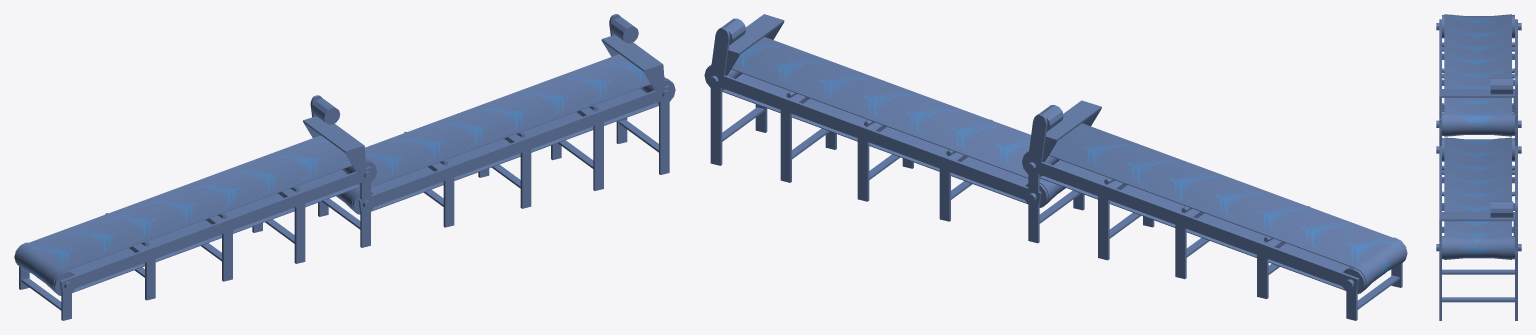
Rendered from PDYSJ.glb.
3 renders of one model, left to right at view 1: azimuth 30°, elevation 25°; view 2: azimuth 150°, elevation 25°; view 3: azimuth 270°, elevation 25°, orthographic. The views are drawn at different scales.
Parts seen in each view (by area): view 1: PDYSJ-2, PDYSJ-1; view 2: PDYSJ-2, PDYSJ-1; view 3: PDYSJ-2, PDYSJ-1.
Part boxes in pixels (x1,y1,x2,y2): PDYSJ-2: (14, 14, 675, 320); PDYSJ-1: (25, 61, 645, 285); PDYSJ-2: (704, 14, 1407, 320); PDYSJ-1: (737, 43, 1396, 282); PDYSJ-2: (1436, 14, 1521, 320); PDYSJ-1: (1451, 14, 1502, 257).
Bounding box in the file's own units: 108 × 21.38 × 14.21.
2 materials, 1 textured.
